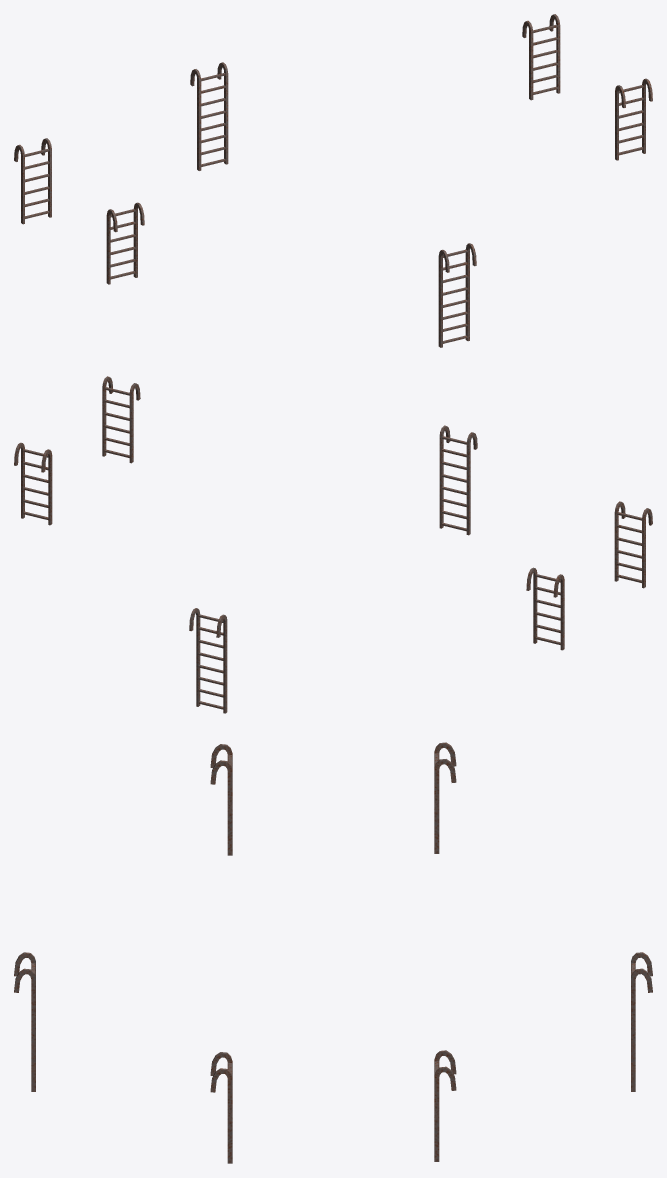
Rendered from SM_NeoLD_10_Ladder_00.fbx.
3 views of the same model, one above another, from view 1: azimuth 30°, elevation 25°; view 2: azimuth 150°, elevation 25°; view 3: azimuth 270°, elevation 25° (orthographic). The views are drawn at different scales.
Visible parts, largest first — view 1: SM_NeoLD_10_Ladder_00; view 2: SM_NeoLD_10_Ladder_00; view 3: SM_NeoLD_10_Ladder_00.
Part boxes in pixels (left/top/right/bottom): SM_NeoLD_10_Ladder_00: left=14, top=14, right=652, bottom=347; SM_NeoLD_10_Ladder_00: left=14, top=376, right=652, bottom=713; SM_NeoLD_10_Ladder_00: left=14, top=742, right=652, bottom=1163.
Size of the model in its own units: 2765 by 699 by 2283.
